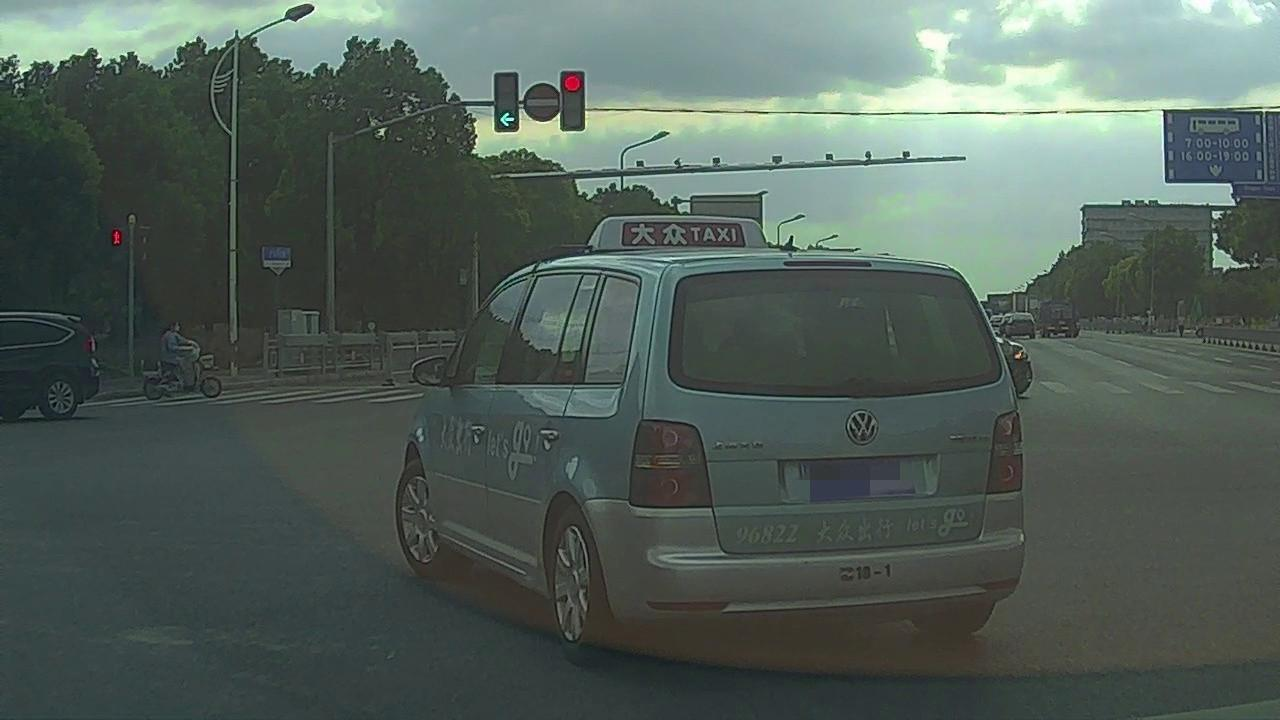traffic_light: (562, 70, 586, 129), (496, 73, 518, 129)
